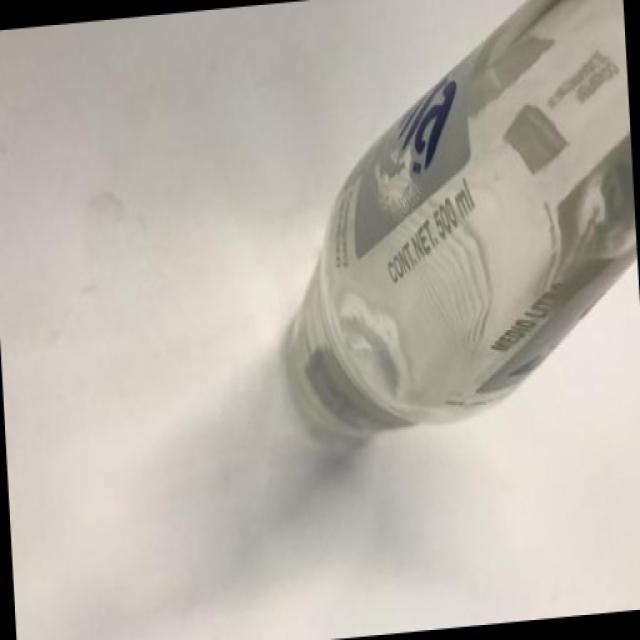vidrio: (270, 4, 636, 475)
